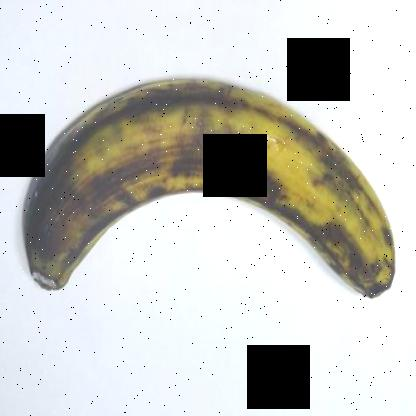overripe: (17, 61, 407, 305)
rotten: (6, 148, 126, 314)
